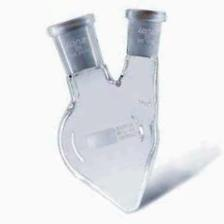Pear shaped flask: (23, 6, 181, 215)
